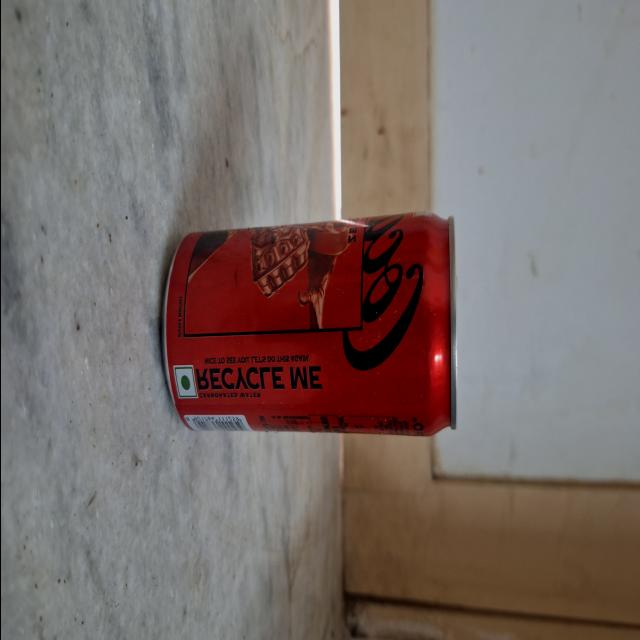Coca Cola Zero: (169, 222, 463, 435)
